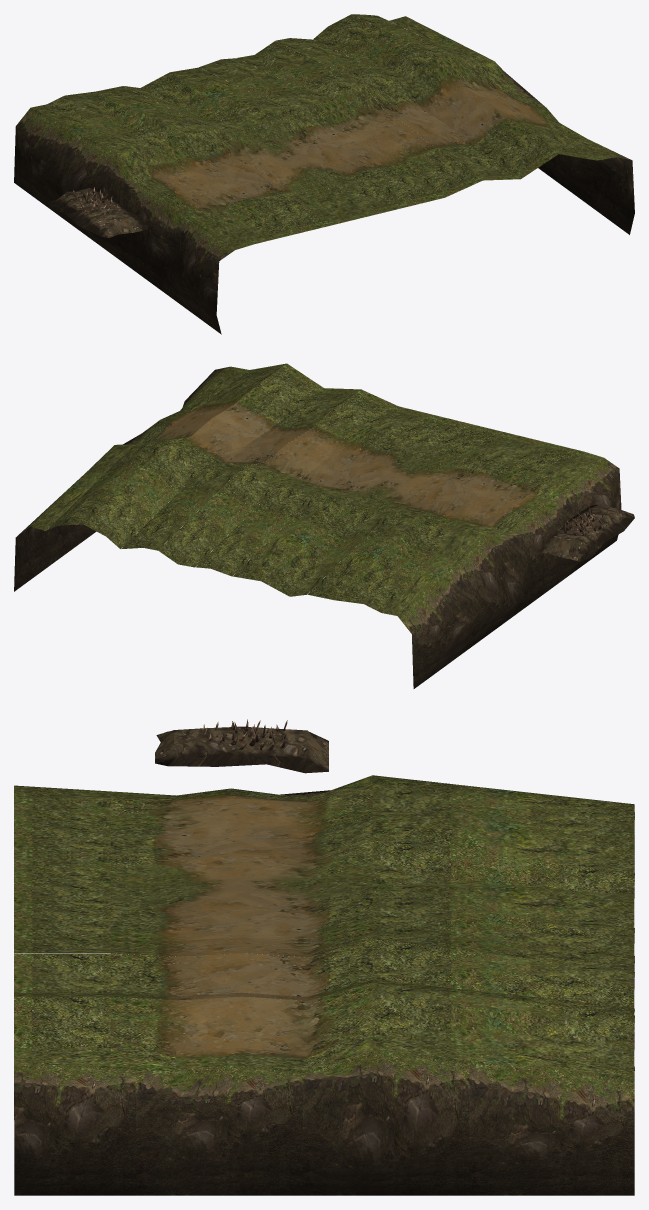
Rendered from Lv1_Dixing.FBX.
3 views of the same model, one above another, from view 1: azimuth 30°, elevation 25°; view 2: azimuth 150°, elevation 25°; view 3: azimuth 270°, elevation 25° (orthographic). The views are drawn at different scales.
Visible parts, largest first — view 1: Lv1_DiMian_end_L, Lv1_DiMian_10m_1, Lv1_DiMian_10m_2, Lv1_XiePo2_up, Lv1_XiePo1_up, Lv1_DiMian_end_R, Lv1_DiMian_5m, Lv1_XiePo1_down, Lv1_XiePo2_down, Lv1_JianCi; view 2: Lv1_DiMian_end_L, Lv1_DiMian_10m_2, Lv1_DiMian_10m_1, Lv1_XiePo2_up, Lv1_XiePo1_up, Lv1_DiMian_5m, Lv1_DiMian_end_R, Lv1_XiePo1_down, Lv1_XiePo2_down, Lv1_JianCi; view 3: Lv1_DiMian_end_R, Lv1_DiMian_10m_1, Lv1_DiMian_10m_2, Lv1_XiePo2_down, Lv1_XiePo1_down, Lv1_DiMian_5m, Lv1_XiePo1_up, Lv1_JianCi, Lv1_DiMian_end_L, Lv1_XiePo2_up.
Part boxes in pixels (x1,y1,x2,y2): Lv1_DiMian_end_L: [14, 104, 254, 334]; Lv1_DiMian_10m_1: [47, 86, 330, 243]; Lv1_DiMian_10m_2: [124, 67, 406, 225]; Lv1_XiePo2_up: [313, 14, 558, 178]; Lv1_XiePo1_up: [237, 41, 482, 197]; Lv1_DiMian_end_R: [389, 16, 634, 234]; Lv1_DiMian_5m: [199, 58, 444, 206]; Lv1_XiePo1_down: [275, 38, 520, 180]; Lv1_XiePo2_down: [352, 14, 596, 160]; Lv1_JianCi: [48, 187, 148, 237]; Lv1_DiMian_end_L: [381, 452, 621, 688]; Lv1_DiMian_10m_2: [233, 415, 509, 596]; Lv1_DiMian_10m_1: [307, 433, 584, 612]; Lv1_XiePo2_up: [84, 363, 323, 548]; Lv1_XiePo1_up: [158, 389, 398, 567]; Lv1_DiMian_5m: [196, 406, 435, 576]; Lv1_DiMian_end_R: [14, 366, 248, 591]; Lv1_XiePo1_down: [121, 388, 360, 550]; Lv1_XiePo2_down: [47, 363, 285, 530]; Lv1_JianCi: [539, 504, 634, 561]; Lv1_DiMian_end_R: [14, 1034, 634, 1195]; Lv1_DiMian_10m_1: [14, 785, 634, 872]; Lv1_DiMian_10m_2: [14, 840, 634, 927]; Lv1_XiePo2_down: [14, 983, 634, 1066]; Lv1_XiePo1_down: [14, 939, 634, 1007]; Lv1_DiMian_5m: [14, 896, 634, 955]; Lv1_XiePo1_up: [14, 923, 634, 971]; Lv1_JianCi: [155, 719, 328, 773]; Lv1_DiMian_end_L: [14, 775, 634, 872]; Lv1_XiePo2_up: [14, 979, 634, 1014].
Size of the model in its own units: 65.89 by 47.36 by 13.54.
